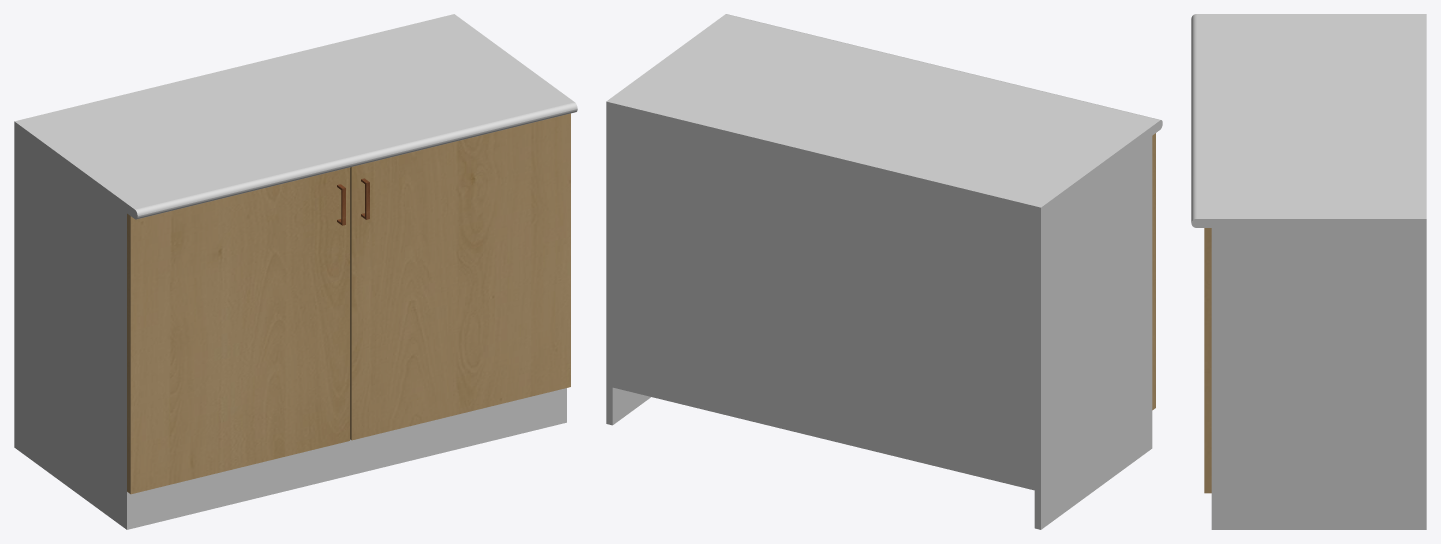
3 views of the same model, side by side, from view 1: azimuth 30°, elevation 25°; view 2: azimuth 150°, elevation 25°; view 3: azimuth 270°, elevation 25° (orthographic). The views are drawn at different scales.
Visible parts, largest first — view 1: Mesh_3_group, Mesh_2_group, Mesh_0_group, Mesh_1_group; view 2: Mesh_0_group, Mesh_2_group, Mesh_1_group, Mesh_3_group; view 3: Mesh_0_group, Mesh_2_group, Mesh_1_group, Mesh_3_group.
Boxes of the visible parts, x1,y1,x2,y2 form: Mesh_3_group: (127,113,570,494); Mesh_2_group: (14,14,577,219); Mesh_0_group: (14,131,126,491); Mesh_1_group: (14,388,566,529); Mesh_0_group: (606,111,1152,491); Mesh_2_group: (606,14,1162,216); Mesh_1_group: (606,386,1152,529); Mesh_3_group: (1152,133,1155,410); Mesh_0_group: (1211,228,1426,493); Mesh_2_group: (1191,14,1426,227); Mesh_1_group: (1211,493,1426,529); Mesh_3_group: (1204,228,1211,493).
Size of the model in its own units: 1.2 by 0.85 by 0.582.
Materials: 3 (2 with a texture image).
